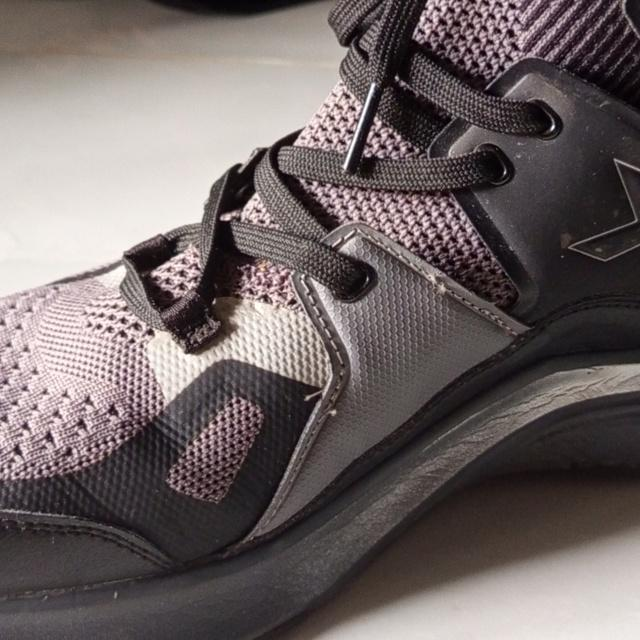broken: (418, 265, 460, 302)
